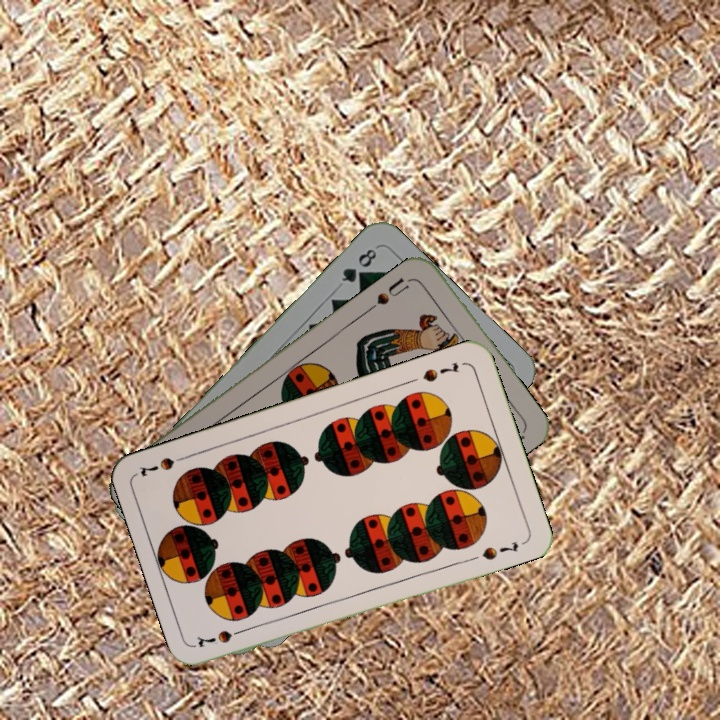G8: (337, 244, 380, 286)
S7: (193, 623, 251, 650), (419, 358, 462, 385)
SU: (364, 273, 416, 314)
